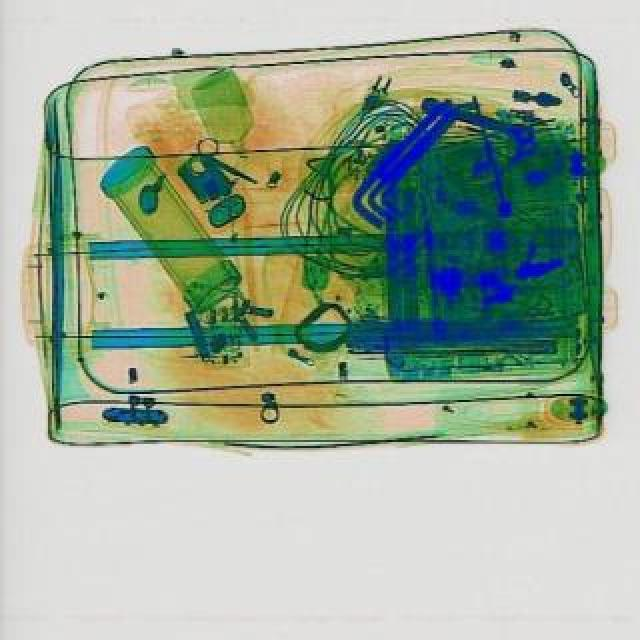pliers: (178, 130, 268, 198)
